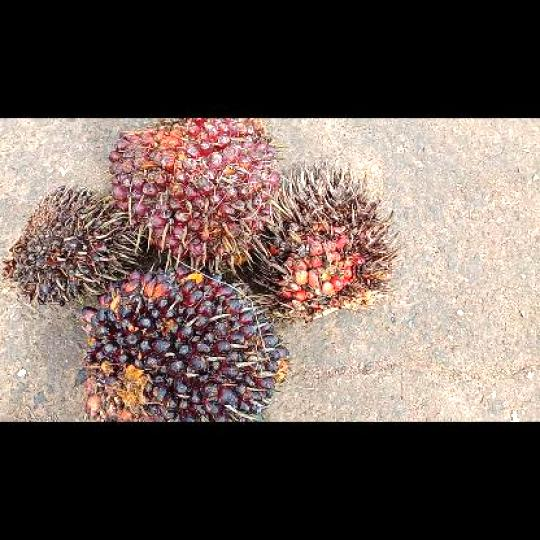kurang masak: (78, 265, 291, 420)
masak: (107, 120, 280, 276)
terlalu masak: (250, 158, 396, 320)
